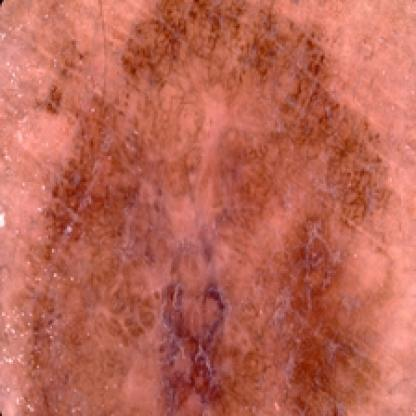Skin_Cancer-Malignant: (20, 0, 398, 416)
